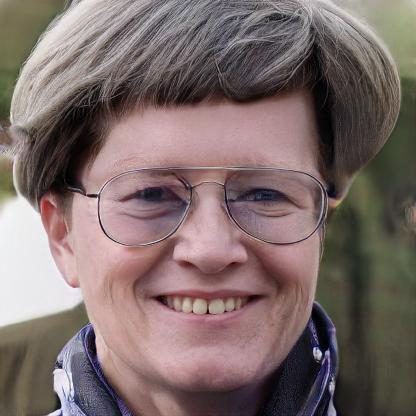glasses: (89, 163, 329, 248)
